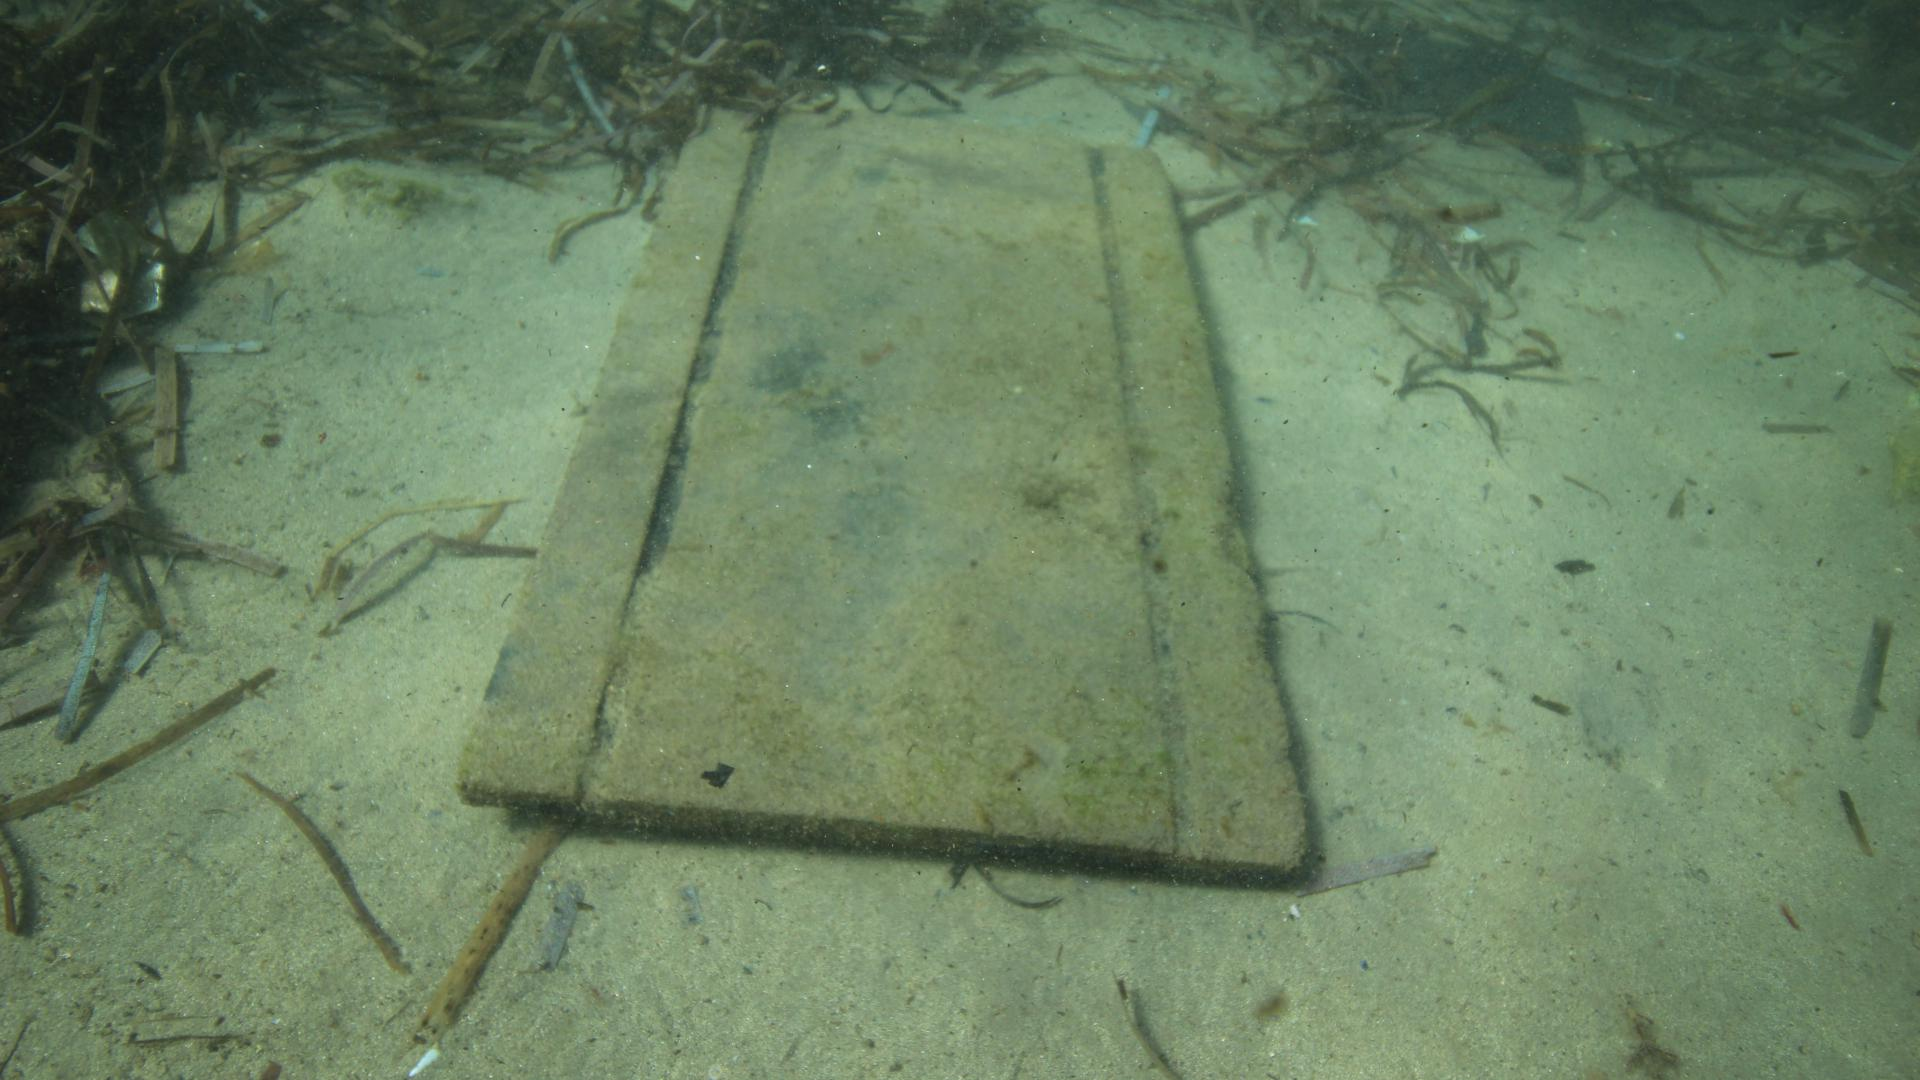wood: (458, 100, 1312, 884)
